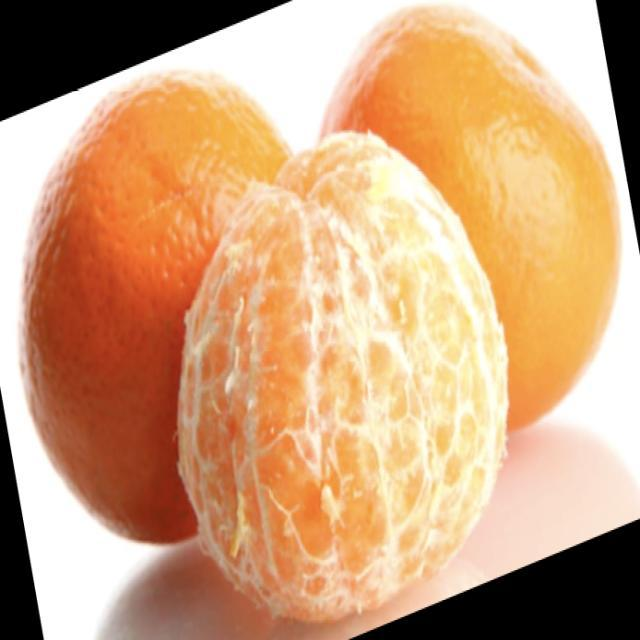matang: (179, 133, 507, 619), (322, 7, 619, 428), (26, 74, 287, 539)
